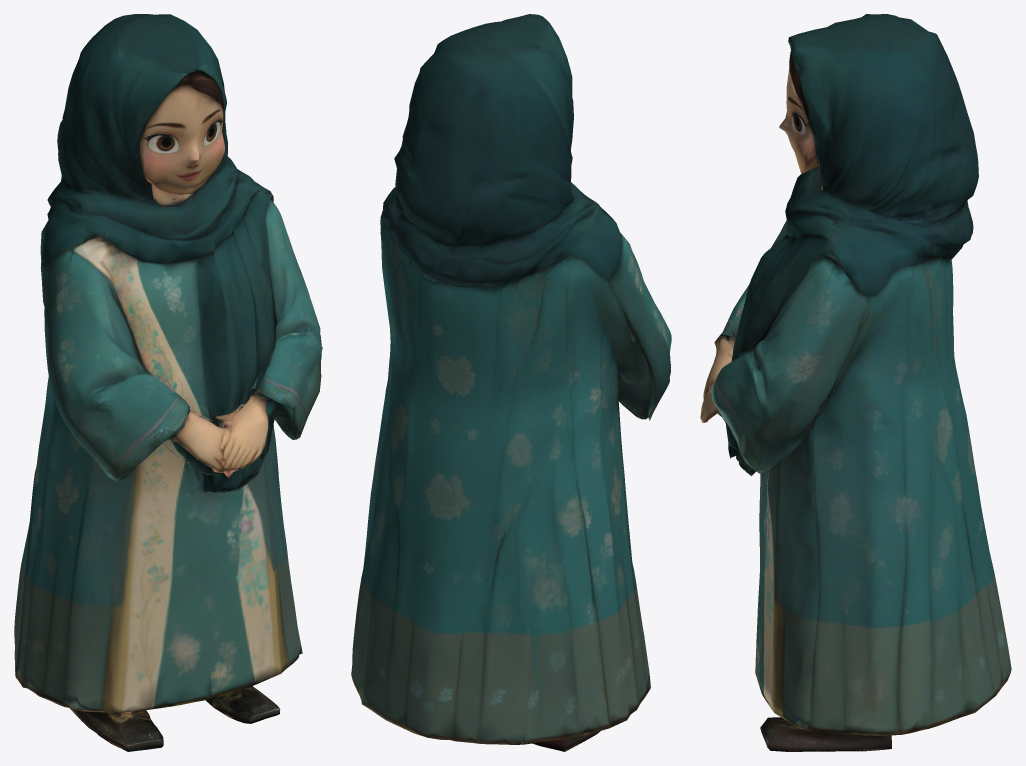
File: Librarian_in_Blue_0416213011_texture.glb
3 renders of one model, left to right at view 1: azimuth 30°, elevation 25°; view 2: azimuth 150°, elevation 25°; view 3: azimuth 270°, elevation 25°, orthographic. The views are drawn at different scales.
Size of the model in its own units: 0.8061 by 2 by 0.8193.
Materials: 1 (1 with a texture image).
